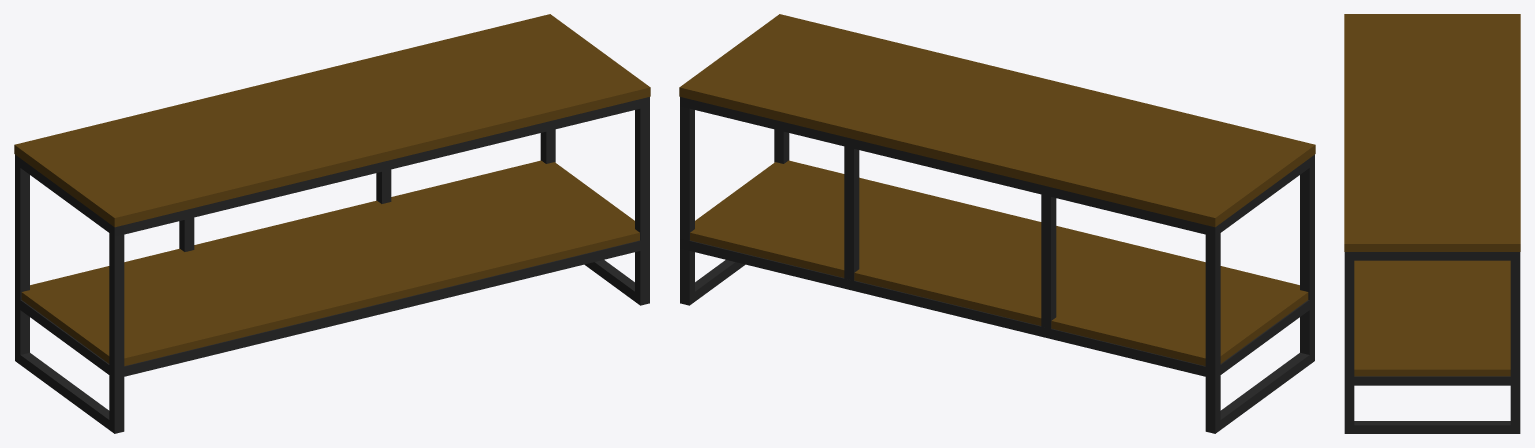
File: TV_Stand_2.fbx
3 views of the same model, side by side, from view 1: azimuth 30°, elevation 25°; view 2: azimuth 150°, elevation 25°; view 3: azimuth 270°, elevation 25° (orthographic). The views are drawn at different scales.
Parts seen in each view (by area): view 1: TV_Stand2; view 2: TV_Stand2; view 3: TV_Stand2.
Part boxes in pixels (x1,y1,x2,y2): TV_Stand2: [14, 14, 650, 433]; TV_Stand2: [679, 14, 1315, 433]; TV_Stand2: [1344, 14, 1520, 433].
Size of the model in its own units: 504 by 194 by 163.
